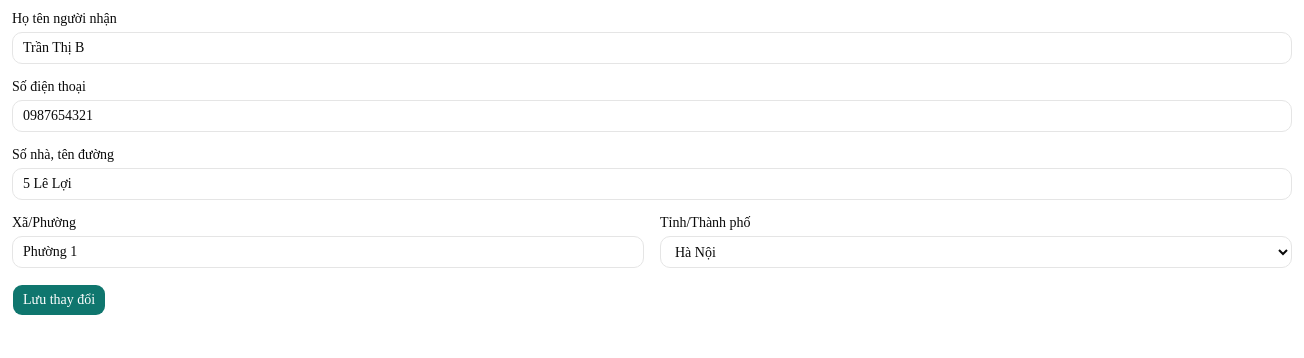
Test case: AddressForm › chế độ sửa (initialValues, Week9.md 6.2) › ô sửa thành giá trị sai -> vẫn chặn bằng cùng luật validate như tạo mới
Step 1. Replace the text in the field labelled "Số điện thoại" with "123" → (652, 116), box [12, 100, 1292, 132]
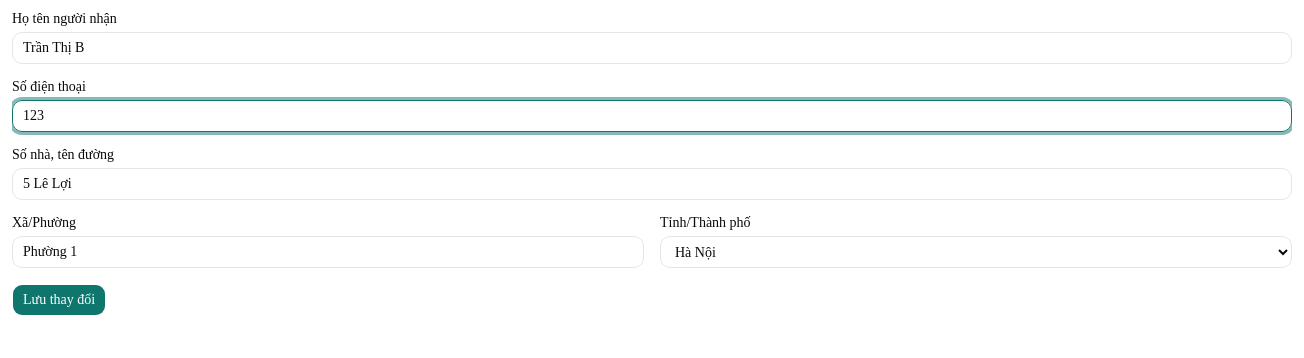
Step 2. Click the button "Lưu thay đổi" → (59, 300), box [12, 284, 106, 316]
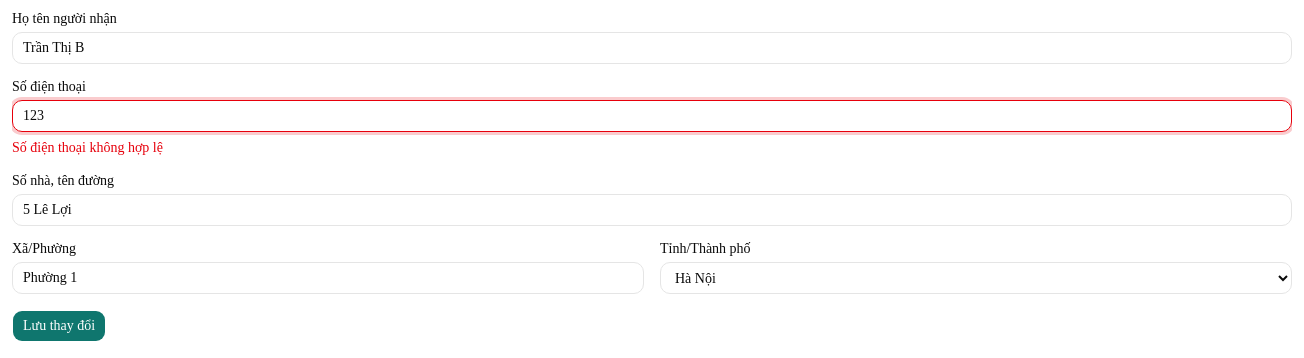
Expected: the text "Số điện thoại không hợp lệ" is shown, [12, 140, 163, 155]
